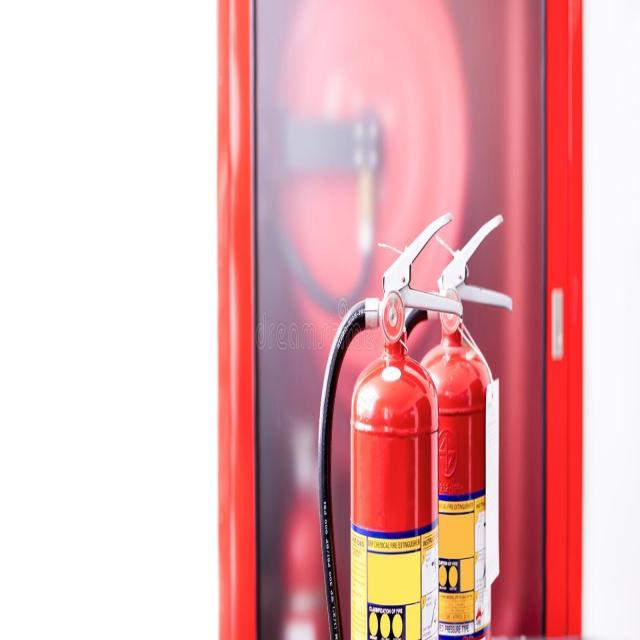fire_extinguisher: (312, 205, 463, 639), (382, 205, 518, 639)
